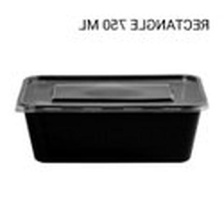plastic_box: (9, 61, 215, 172)
